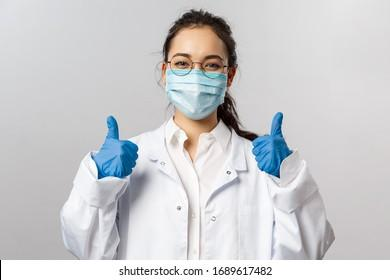gloves: (93, 115, 139, 177), (251, 112, 293, 175)
